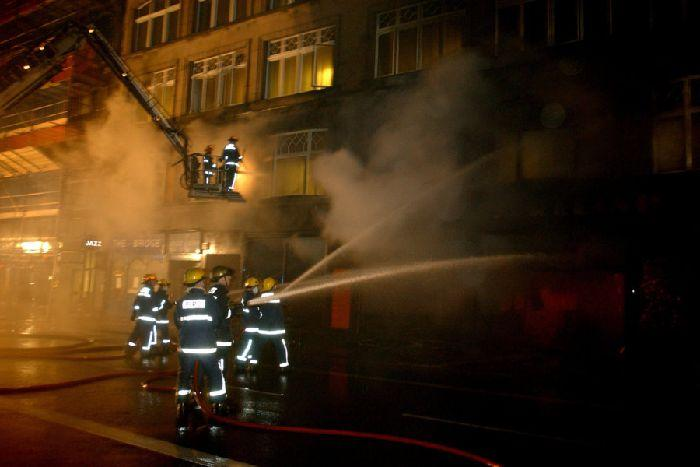smoke: (94, 117, 149, 273), (397, 92, 458, 170), (328, 152, 376, 219)
